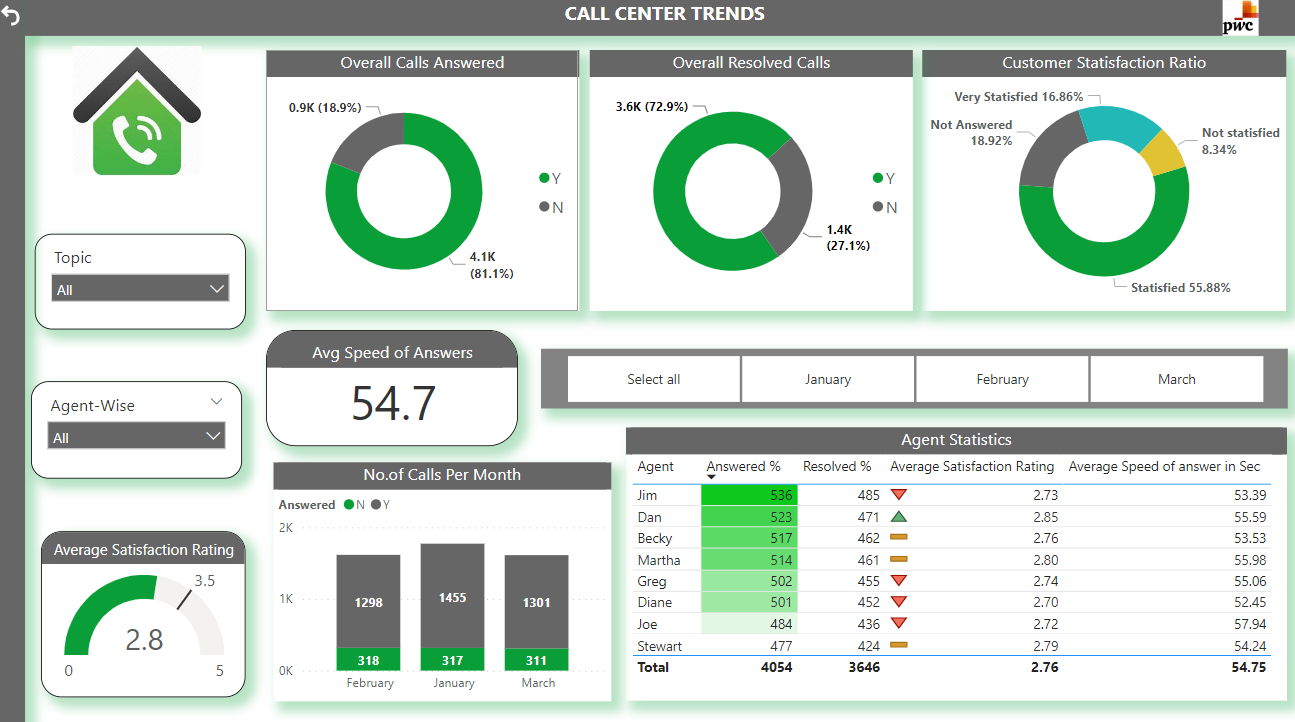

The page's visual inventory and layout, read from the dashboard file:
{"tool":"powerbi","page":{"name":"Page 1","canvas":[1280,720],"ordinal":0},"visuals":[{"type":"donutChart","title":"Customer Statisfaction Ratio","fields":{"Y":["CountNonNull(Call Center trends.Customer Statisfaction)"],"Category":["Call Center trends.Customer Statisfaction"]},"box":[906.2,53.8,356.2,255],"z":0},{"type":"card","title":"Avg Speed of Answers","fields":{"Values":["Avg(Call Center trends.Speed of answer in seconds)"]},"box":[263.8,327.5,246.2,113.8],"z":1000},{"type":"donutChart","title":"Overall Calls Answered","fields":{"Category":["Call Center trends.Answered (Y/N)"],"Y":["CountNonNull(Call Center trends.Answered (Y/N))"]},"box":[263.8,53.8,306.2,255],"z":2000},{"type":"donutChart","title":"Overall Resolved Calls","fields":{"Category":["Call Center trends.Resolved"],"Y":["CountNonNull(Call Center trends.Resolved)"]},"box":[581.2,53.8,316.2,255],"z":3000},{"type":"slicer","title":"Month Wise","fields":{"Values":["Call Center trends.Date.Variation.Date Hierarchy.Month"]},"box":[532.5,346.2,730,58.8],"z":4000},{"type":"slicer","fields":{"Values":["Call Center trends.Topic"]},"box":[38,233.3,206.2,93.8],"z":5000},{"type":"shape","box":[0,0,28.4,720.4],"z":6000},{"type":"actionButton","box":[0,0,28.4,39.8],"z":7000},{"type":"textbox","box":[28.1,0,1251.7,40.3],"z":8000},{"type":"gauge","title":"Average Satisfaction Rating","fields":{"Y":["Avg(Call Center trends.Satisfaction rating)"]},"box":[43.8,525,200,162.5],"z":9000},{"type":"tableEx","title":"Agent Statistics","fields":{"Values":["Call Center trends.Agent","Call Center trends.Answered %","Call Center trends.Resolved %","Avg(Call Center trends.Satisfaction rating)","Avg(Call Center trends.Speed of answer in seconds)"]},"box":[616.2,422.5,646.2,267.5],"z":10000},{"type":"slicer","fields":{"Values":["Call Center trends.Agent"]},"box":[34.2,378.3,206.2,95],"z":11000},{"type":"columnChart","title":"No.of Calls Per Month","fields":{"Category":["Call Center trends.Month"],"Y":["CountNonNull(Call Center trends.Answered (Y/N))"],"Series":["Call Center trends.Answered (Y/N)"]},"box":[271.7,456.8,330,233.8],"z":12000},{"type":"image","box":[38,45.8,200,136.2],"z":13000},{"type":"image","box":[1154,0,125.9,45.2],"z":13001}]}

Visuals, with their boxes in screenshot pixels (x1, y1, x2, y2), scaled from the page's 1280x720 canvas onto the 1295x722 screenshot:
"Customer Statisfaction Ratio" donutChart: crop(917, 54, 1277, 310)
"Avg Speed of Answers" card: crop(267, 328, 516, 443)
"Overall Calls Answered" donutChart: crop(267, 54, 577, 310)
"Overall Resolved Calls" donutChart: crop(588, 54, 908, 310)
"Month Wise" slicer: crop(539, 347, 1277, 406)
slicer - Call Center trends.Topic: crop(38, 234, 247, 328)
shape: crop(0, 0, 29, 721)
actionButton: crop(0, 0, 29, 40)
textbox: crop(28, 0, 1294, 40)
"Average Satisfaction Rating" gauge: crop(44, 526, 247, 689)
"Agent Statistics" tableEx: crop(623, 424, 1277, 692)
slicer - Call Center trends.Agent: crop(35, 379, 243, 475)
"No.of Calls Per Month" columnChart: crop(275, 458, 609, 693)
image: crop(38, 46, 241, 183)
image: crop(1168, 0, 1294, 45)
